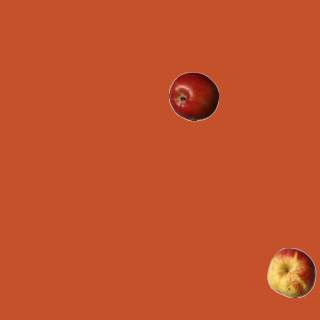Apple Braeburn: (168, 71, 218, 121)
Apple Red Yellow 1: (266, 247, 316, 297)
